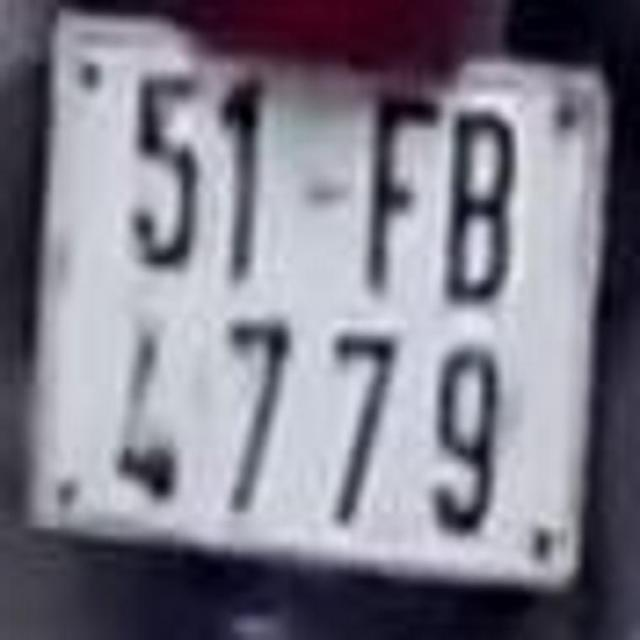1: (212, 57, 274, 282)
4: (112, 314, 188, 519)
5: (128, 55, 205, 274)
7: (318, 314, 401, 530), (215, 310, 294, 518)
8: (445, 78, 519, 304)
9: (427, 328, 503, 538)
F: (361, 80, 442, 301)
